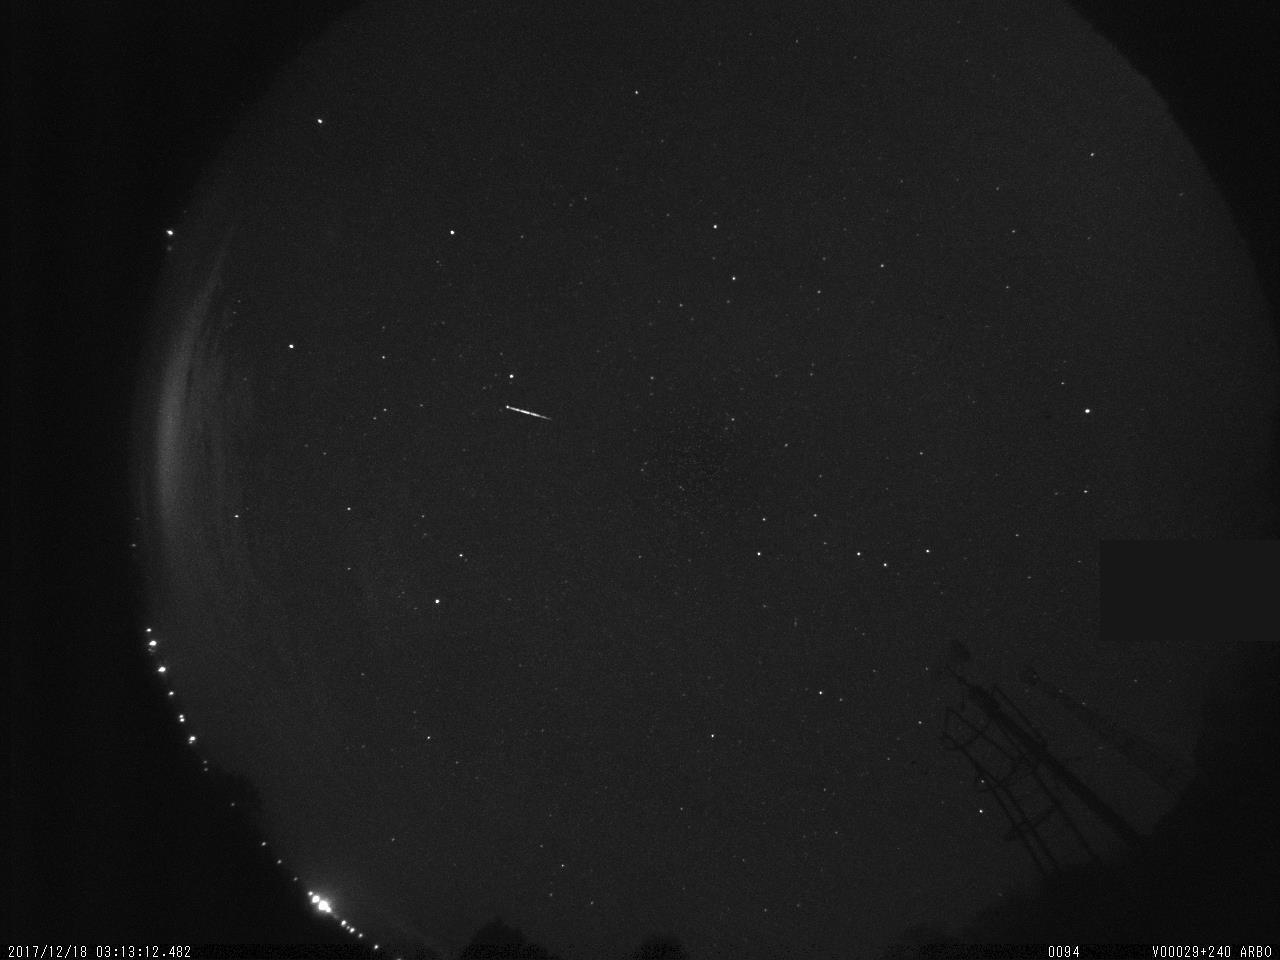meteor: (501, 391, 563, 431)
